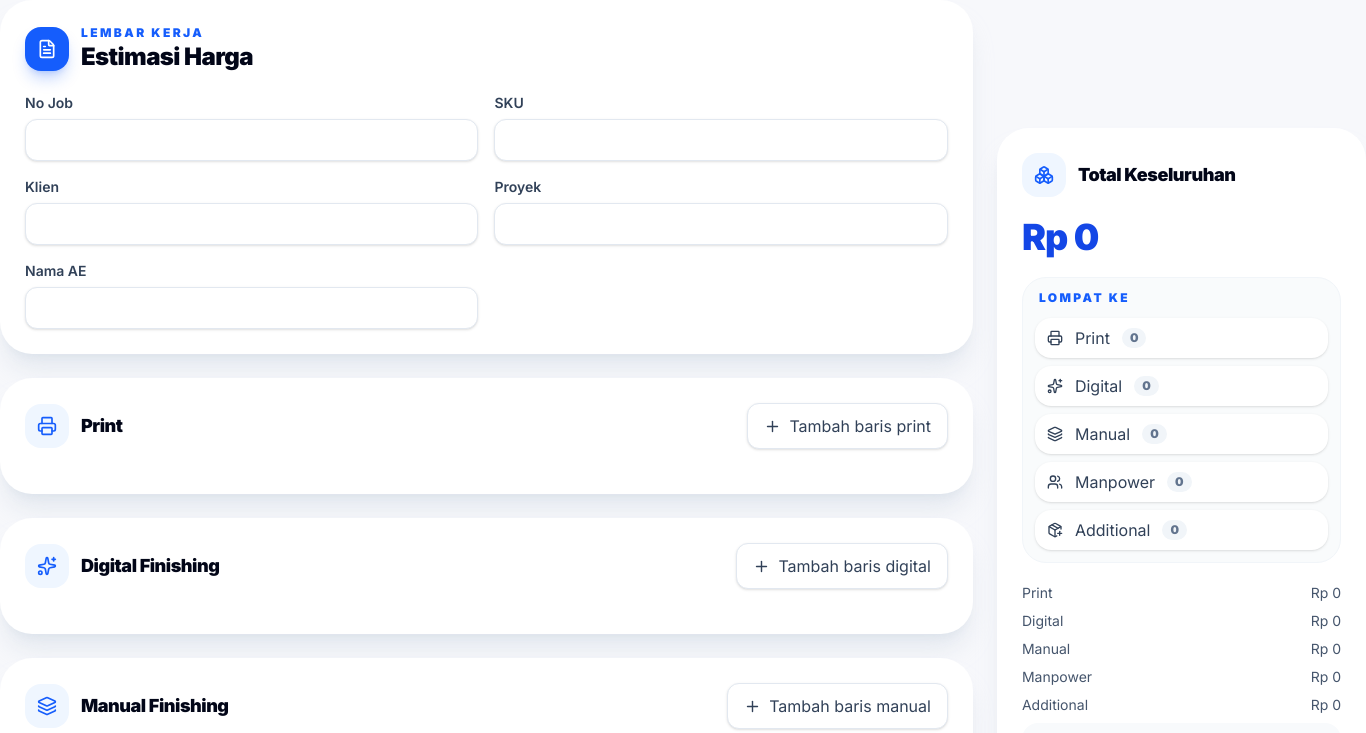
Scenario: EstimationView › adds a print line and recalculates total
Click the button "Tambah baris print": (848, 426) [747,403,948,449]
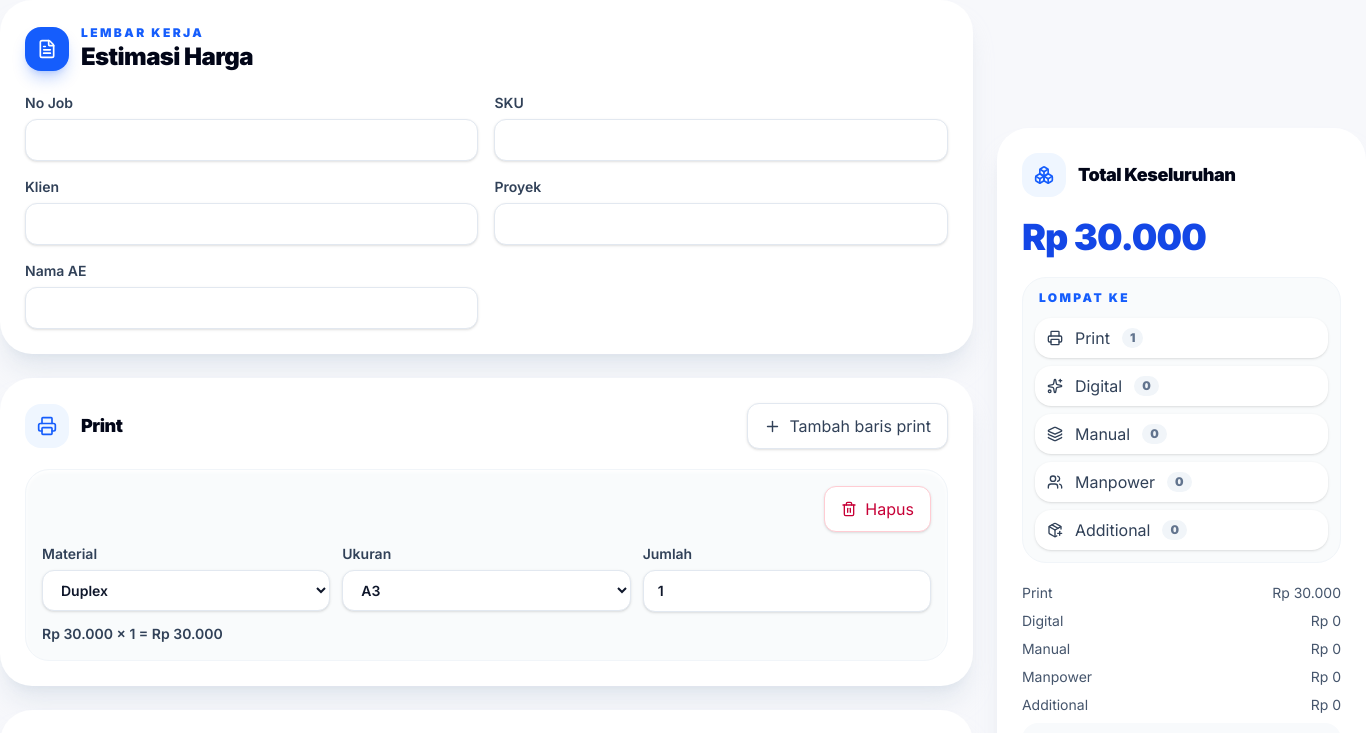
Select "Duplex" in the dropdown labelled "Material": (186, 590) [42,570,330,611]
Select "B2" in the dropdown labelled "Ukuran": (486, 590) [342,570,631,611]
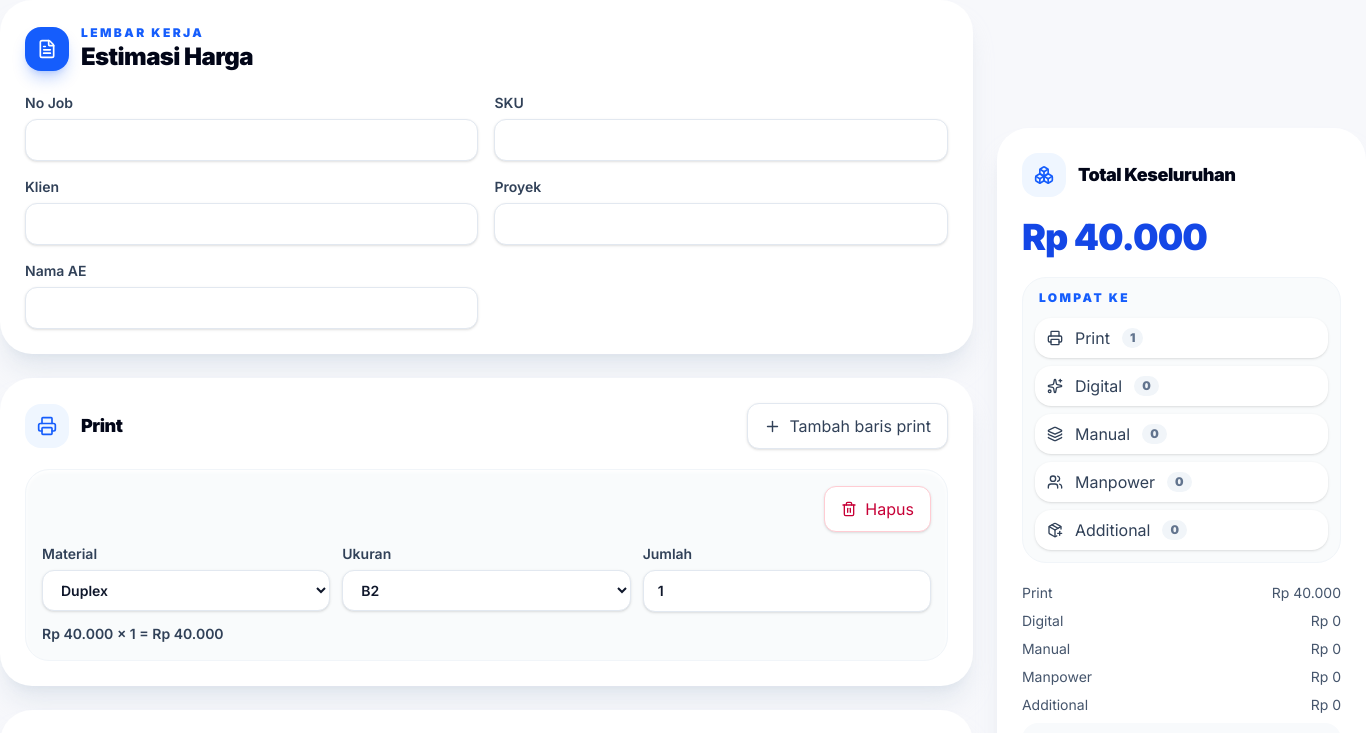
Replace the text in the field labelled "Jumlah" with "110": (787, 591) [643,570,931,612]
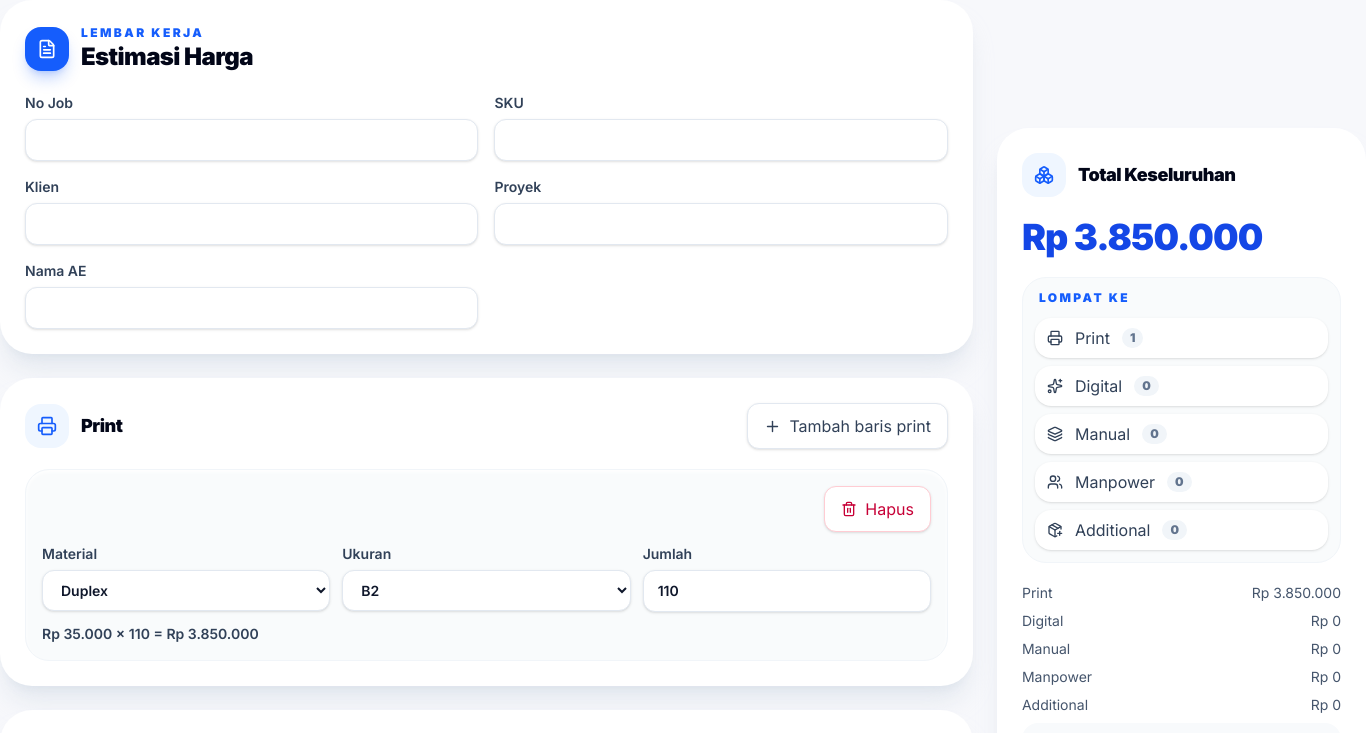
Expected: the text "Rp 3.850.000" is shown 2 times, [1022,215,1262,259]; [1252,583,1341,603]
Expected: the text "Rp 35.000 × 110 = Rp 3.850.000" is shown, [42,625,259,642]
